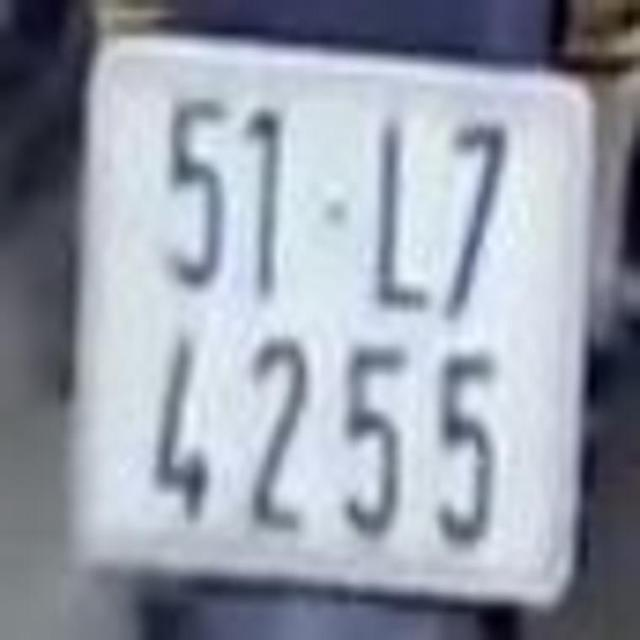1: (240, 104, 285, 296)
2: (248, 333, 308, 532)
4: (150, 331, 214, 527)
5: (343, 341, 408, 537), (436, 348, 500, 547), (164, 96, 229, 286)
7: (442, 117, 510, 320)
L: (371, 113, 434, 312)
